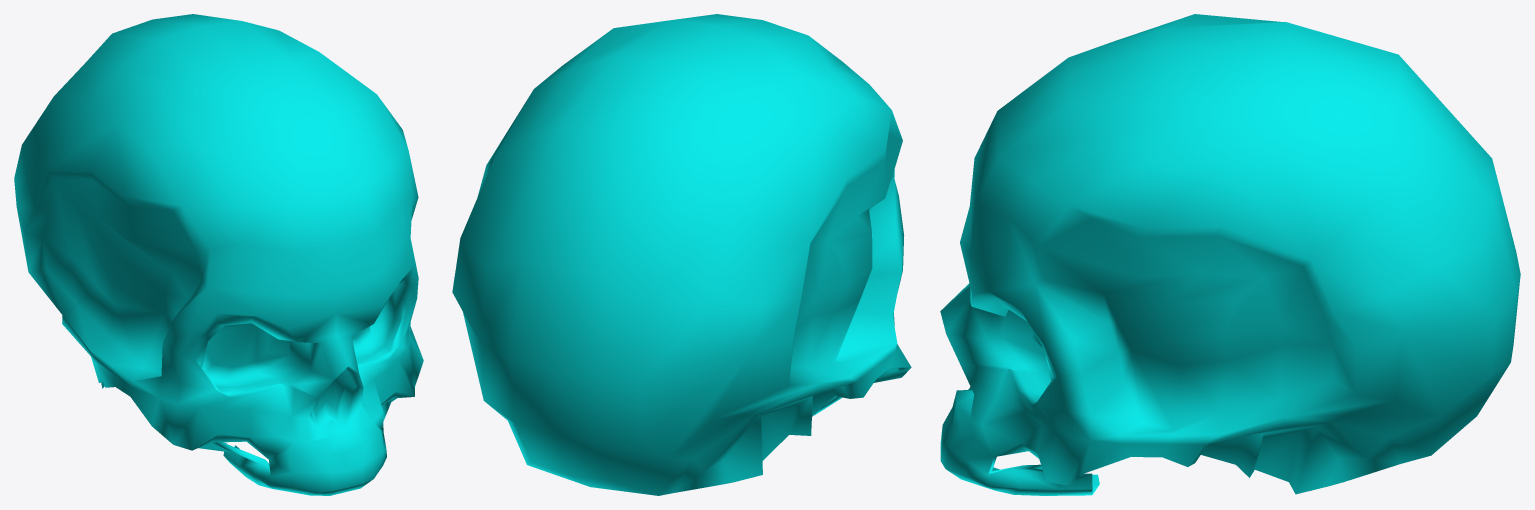
The model's file is skull.fbx.
3 views of the same model, side by side, from view 1: azimuth 30°, elevation 25°; view 2: azimuth 150°, elevation 25°; view 3: azimuth 270°, elevation 25° (orthographic). The views are drawn at different scales.
Visible parts, largest first — view 1: Skull; view 2: Skull; view 3: Skull.
Part boxes in pixels (box(x1,y1,x2,y2)): Skull: box(14, 14, 423, 495); Skull: box(452, 14, 911, 495); Skull: box(940, 14, 1520, 495).
Bounding box in the file's own units: 13.97 × 16.53 × 20.47.
